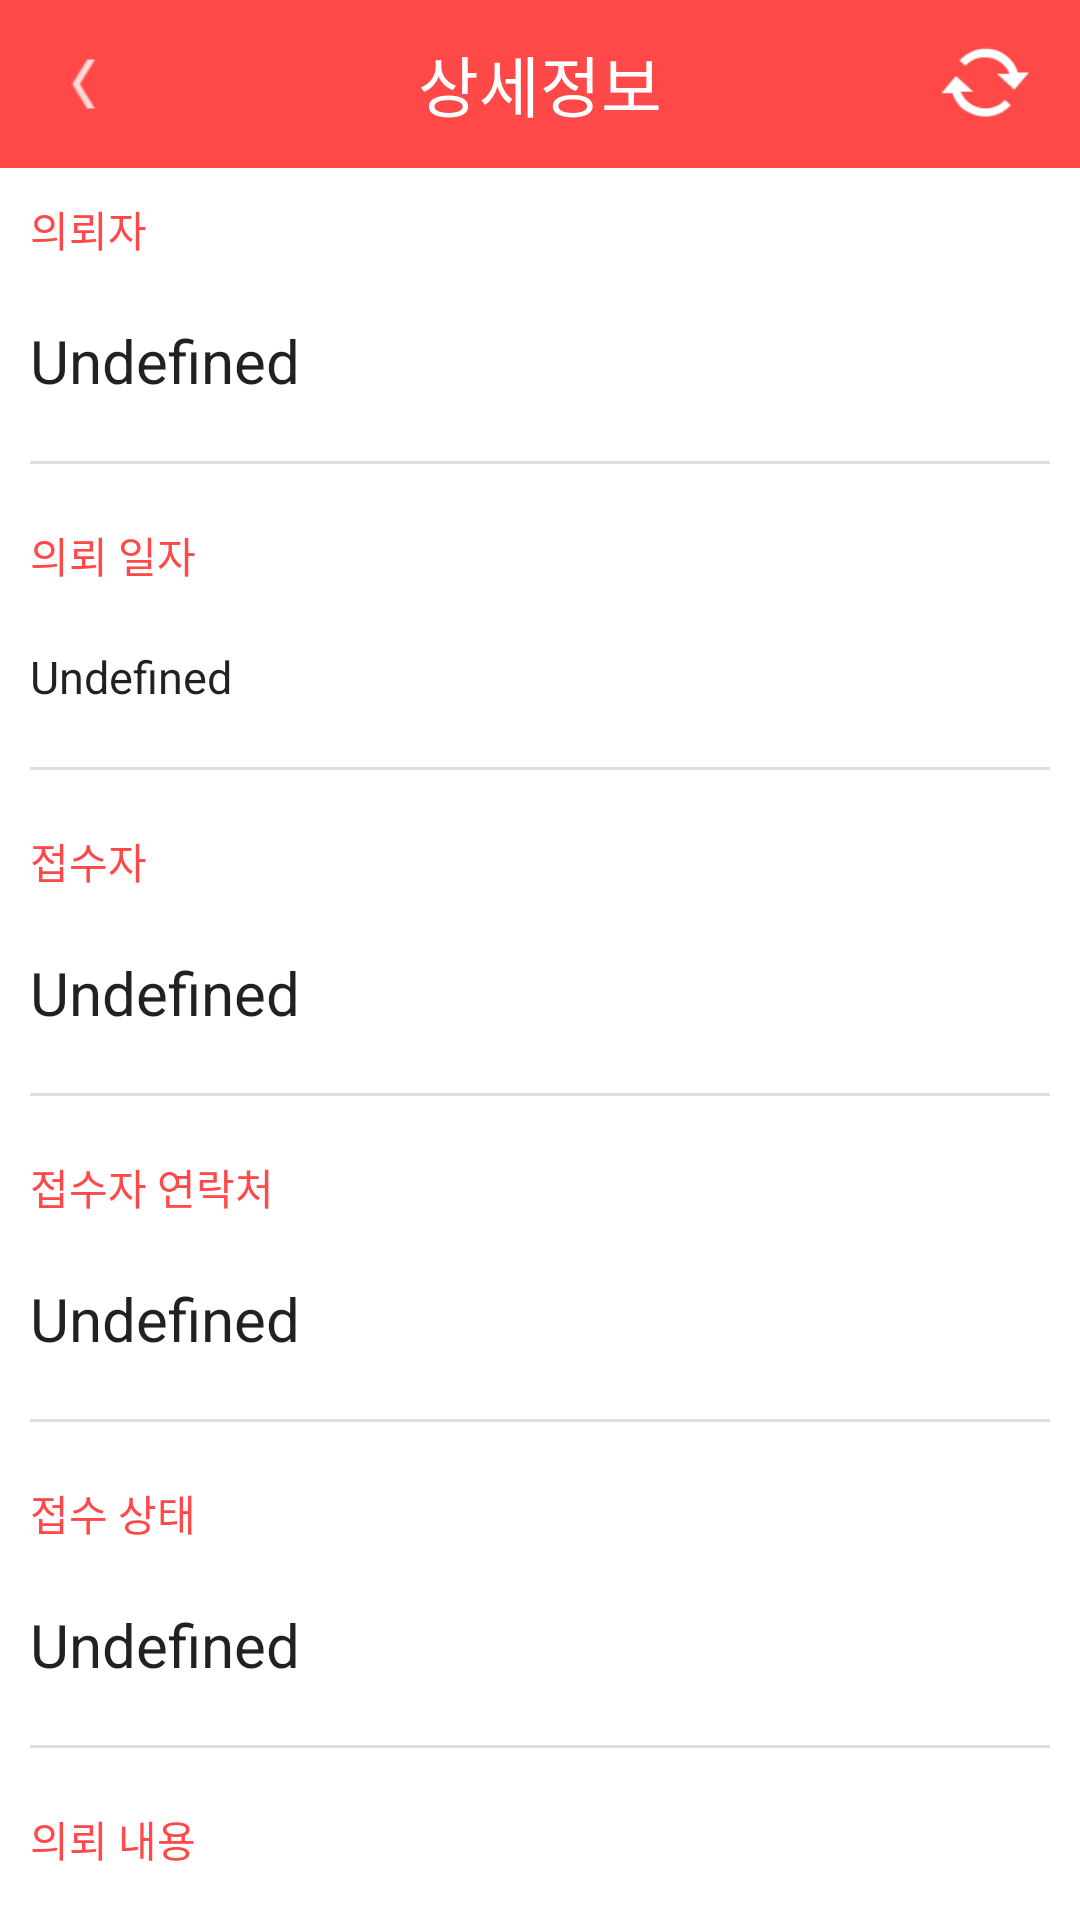

Icon click points for this 1080x1920 phone screenshot, format (x,y):
sync: (985,82)
